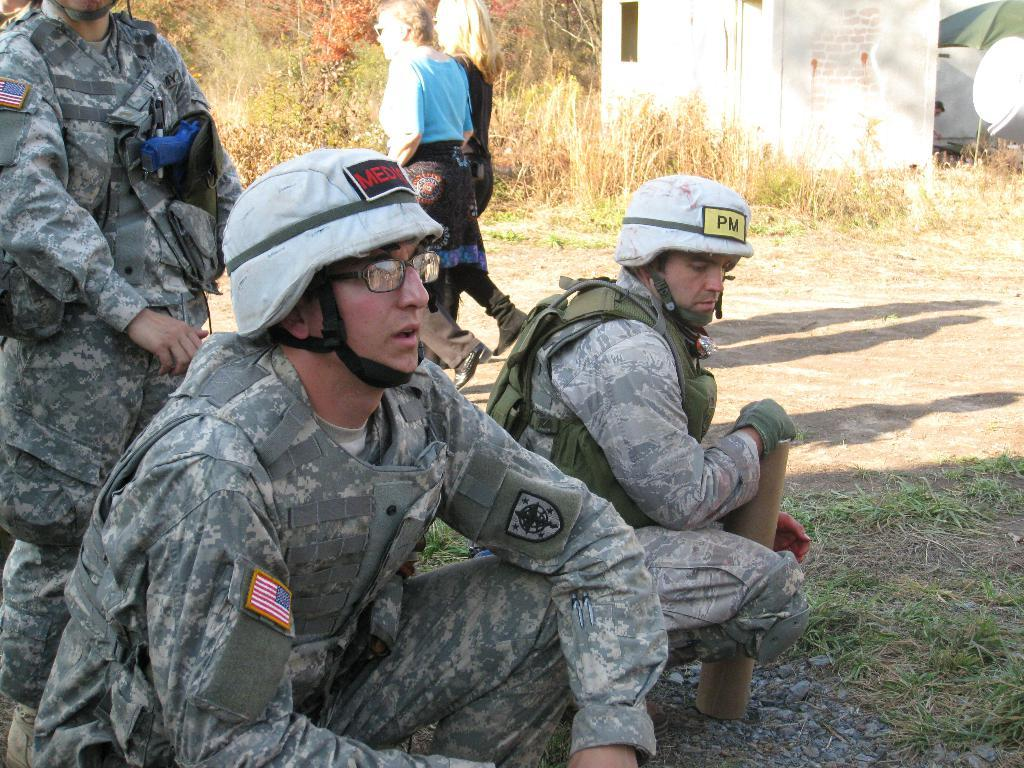Hat: (224, 142, 449, 386), (610, 178, 755, 328)
